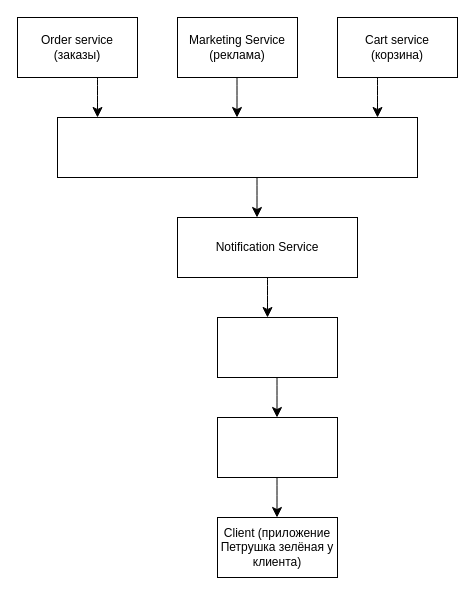
Some shapes in this 475 by 595 pixel diagram are drawn without their labels. The shapes that lost their labels are listed below. From the top down, each one's centre as x and y in pixels, then its label:
At (237,147): "Брокер сообщений (например, RabbitMQ / Kafka)".
At (277,347): "Device Tokens ( Формирование push-уведомления )".
At (277,447): "Push service ( FCM/ APNS/HMS )".
